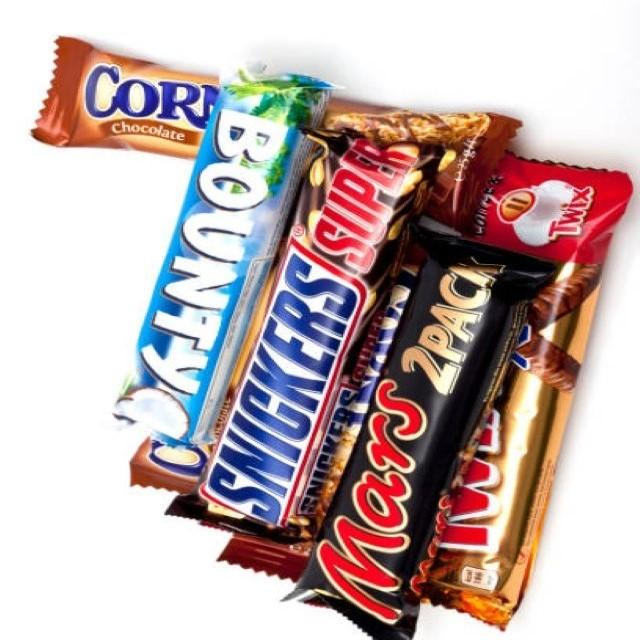mars_chocolate: (340, 284, 515, 618)
snickers_chocolate: (218, 165, 427, 540)
